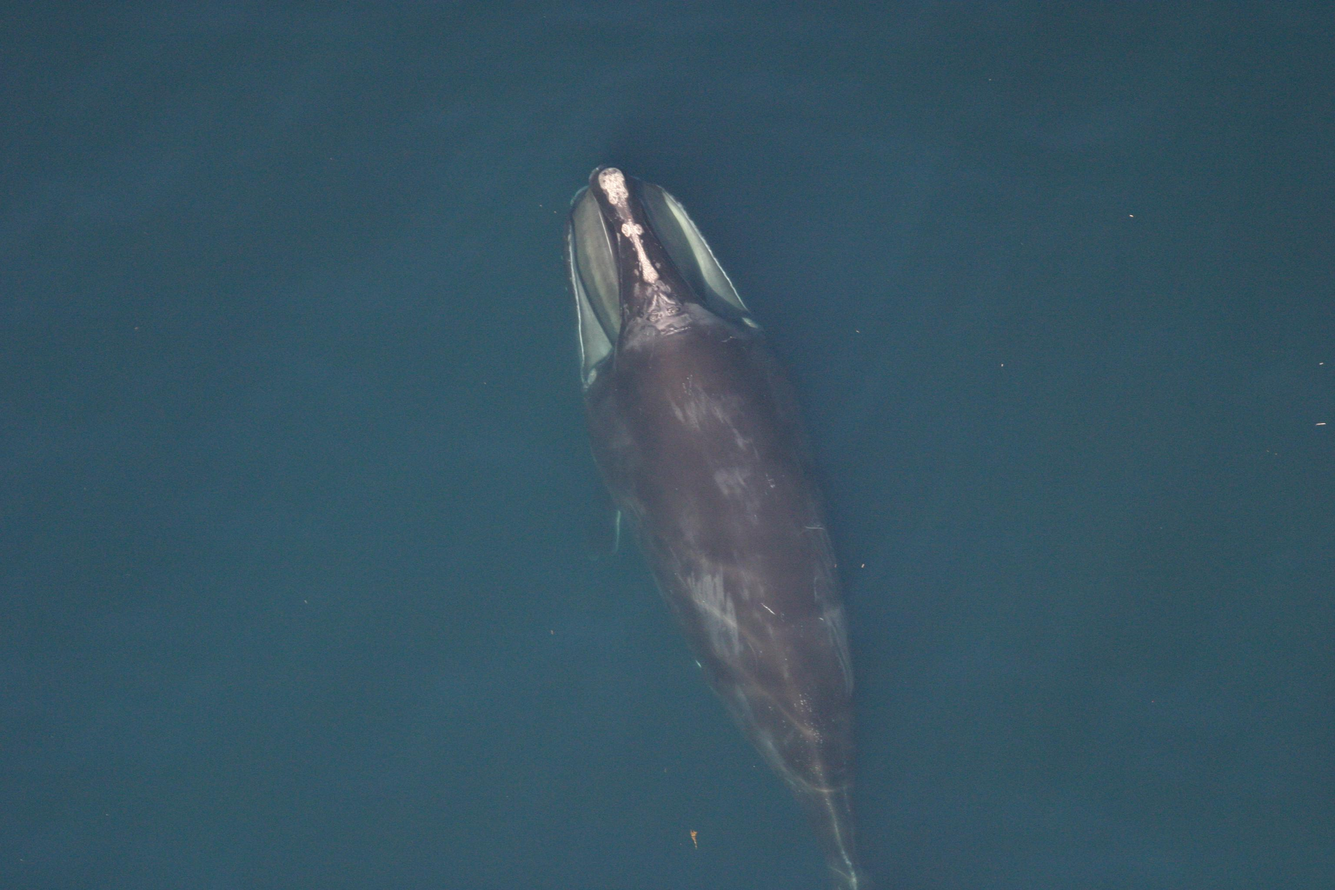whale: (558, 158, 892, 890)
